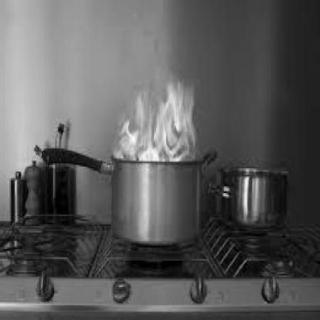Fire: (110, 70, 204, 164)
